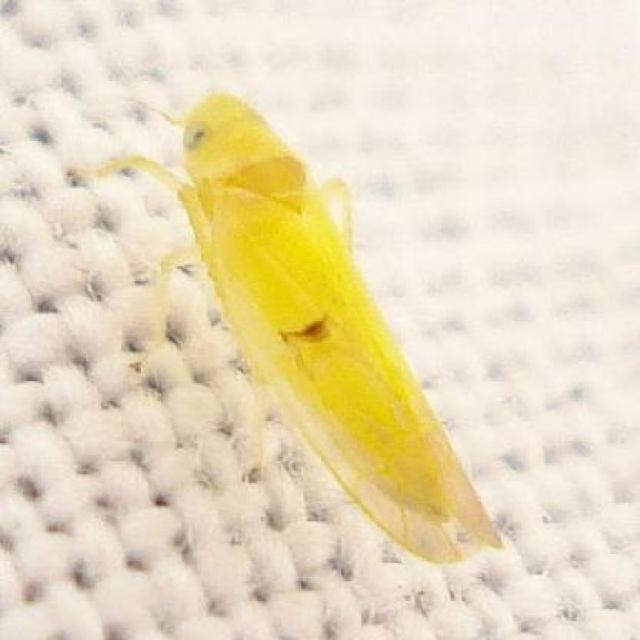green-leafhopper: (172, 95, 494, 557)
